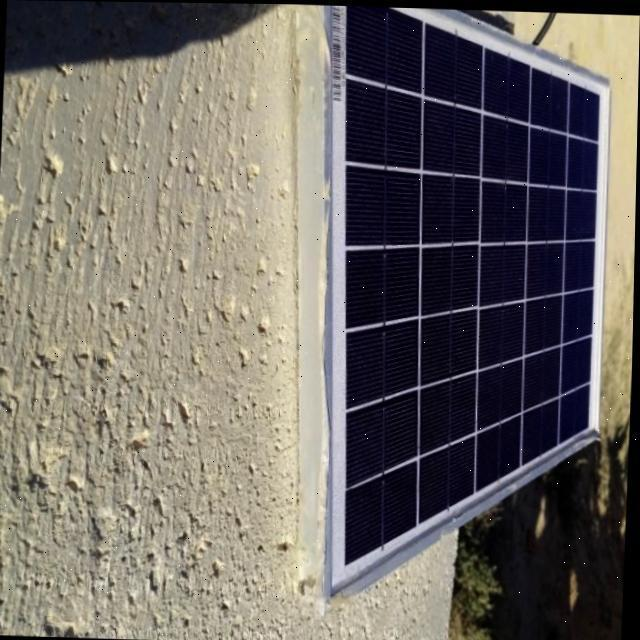Normal Solar Panel: (311, 4, 613, 606)
